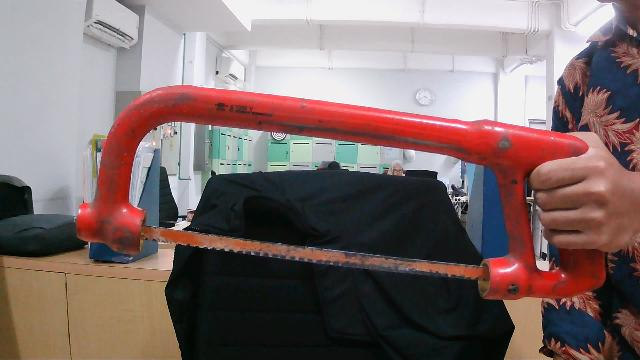gergaji_besi: (55, 66, 610, 314)
